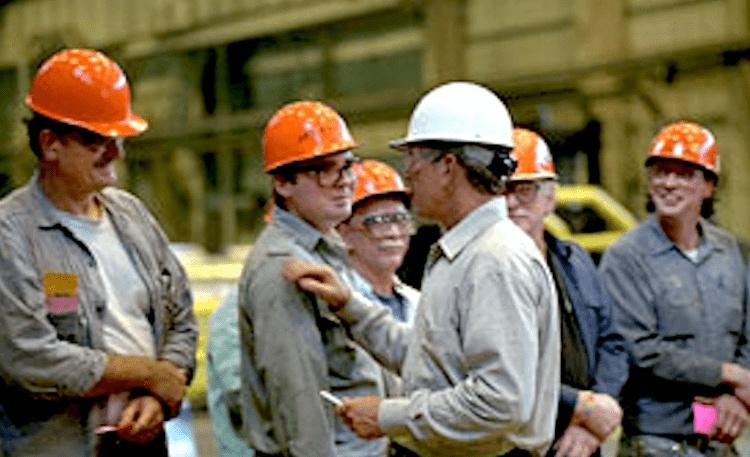helmet: (25, 47, 153, 140), (387, 81, 517, 153), (261, 98, 363, 176), (643, 123, 724, 182), (346, 158, 415, 211), (509, 130, 556, 182)
